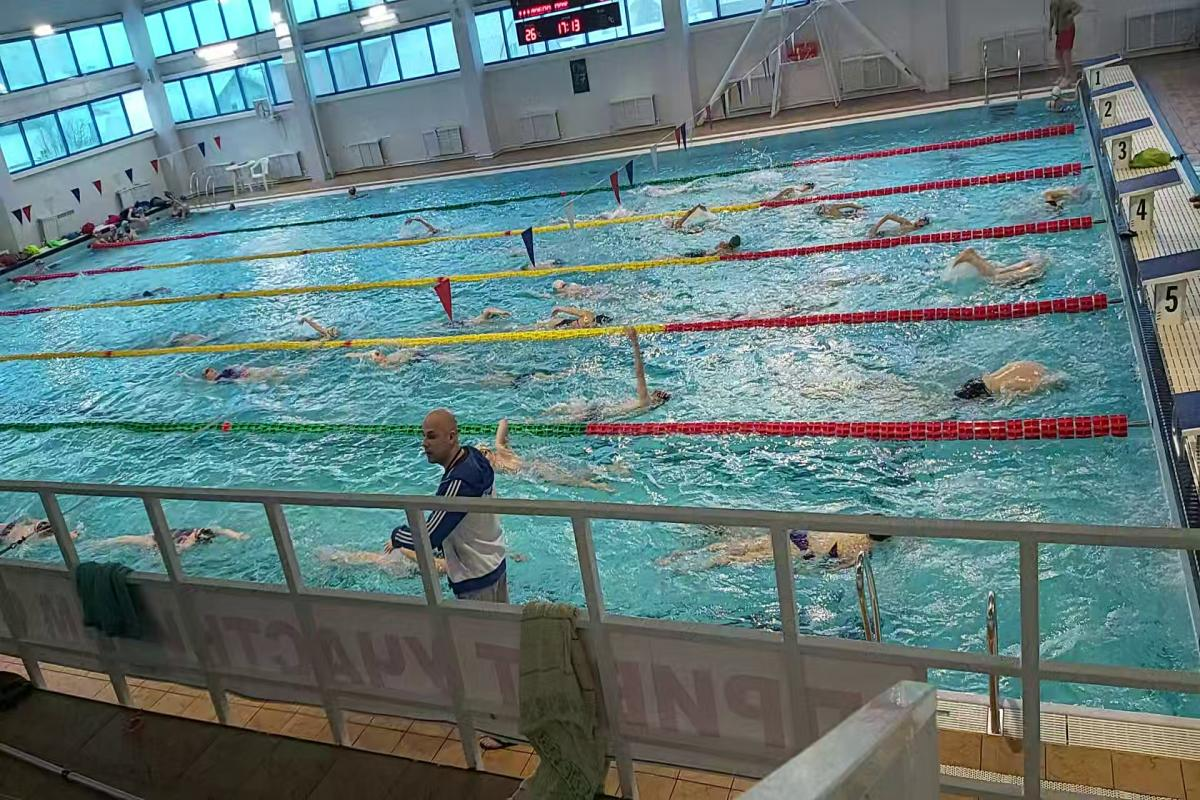swimmer: (476, 425, 620, 489), (694, 518, 876, 563), (530, 375, 668, 421), (939, 356, 1068, 403), (179, 353, 314, 393), (180, 513, 259, 560), (349, 344, 470, 371), (450, 299, 534, 330), (867, 211, 954, 240), (533, 273, 614, 301), (542, 303, 626, 329), (671, 236, 755, 261), (2, 515, 52, 553), (1030, 185, 1082, 219), (287, 311, 355, 337), (805, 196, 879, 218), (658, 218, 738, 235)
